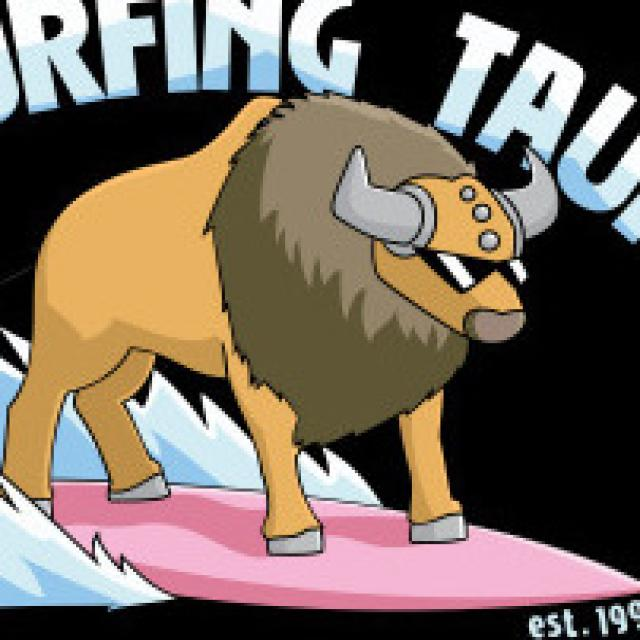Tauros: (0, 95, 561, 522)
